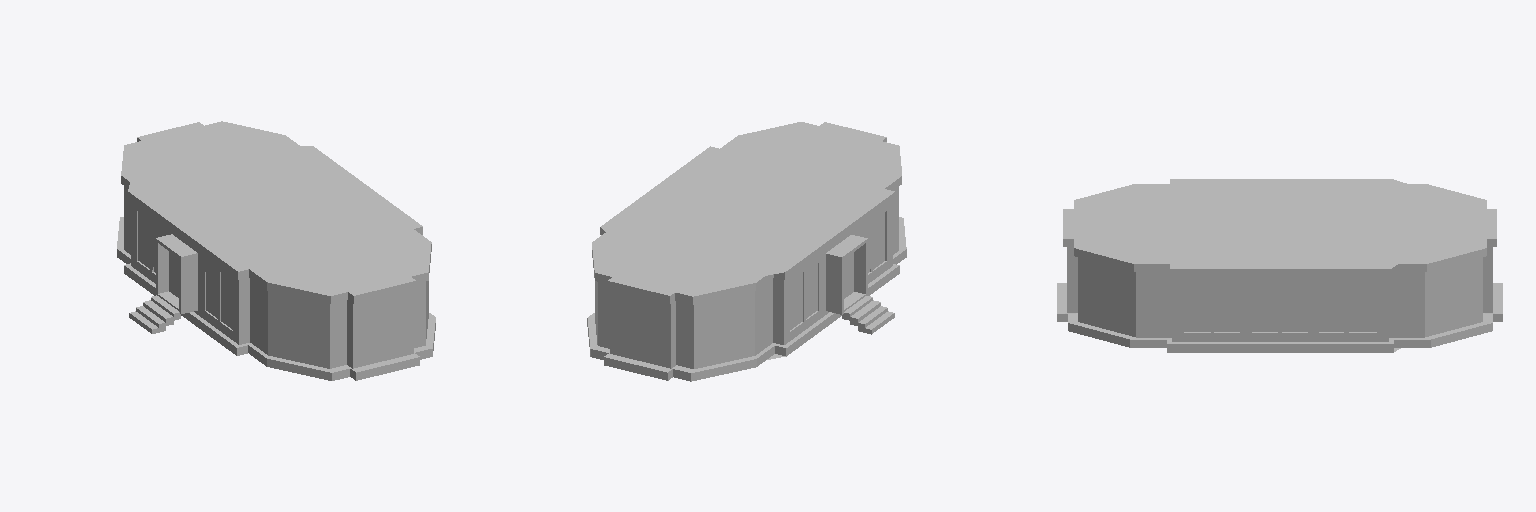
File: buildingC3.obj
The picture shows the model from 3 angles: view 1: azimuth 30°, elevation 25°; view 2: azimuth 150°, elevation 25°; view 3: azimuth 270°, elevation 25°; orthographic projection.
Parts seen in each view (by area): view 1: Cube.027_Cube.022; view 2: Cube.027_Cube.022; view 3: Cube.027_Cube.022.
Boxes of the visible parts, x1,y1,x2,y2 form: Cube.027_Cube.022: [117, 121, 435, 380]; Cube.027_Cube.022: [587, 122, 906, 381]; Cube.027_Cube.022: [1057, 179, 1502, 352].
Bounding box in the file's own units: 8.75 × 3.05 × 14.68.